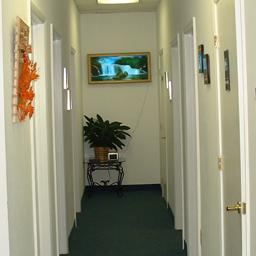Puerta: (216, 3, 247, 252)
